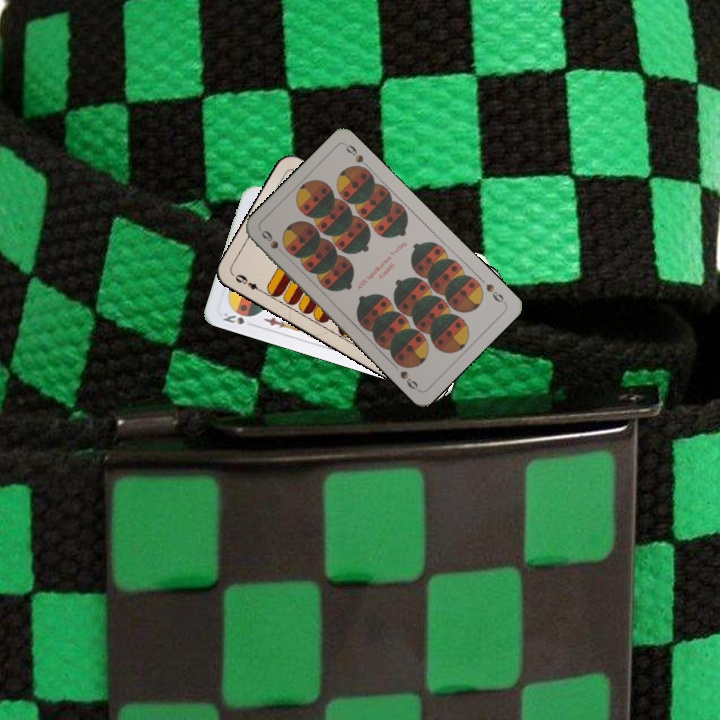E9: (230, 270, 267, 296)
S9: (257, 226, 288, 259), (482, 279, 508, 306)
SK: (219, 308, 247, 327)
